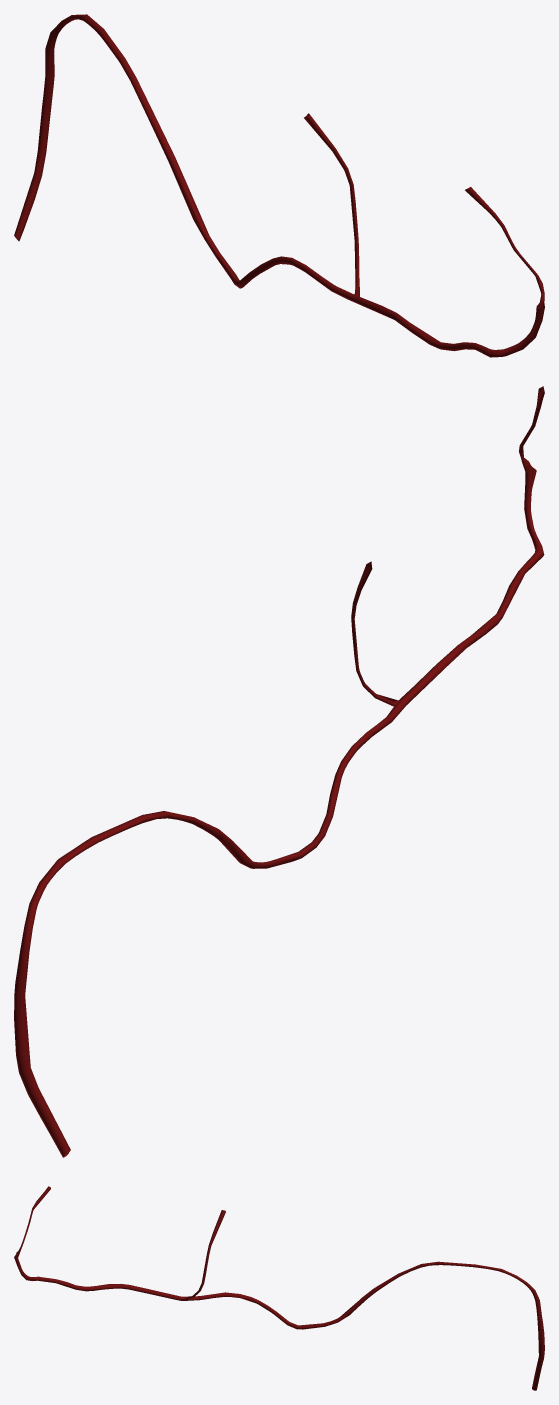
Rendered from L arteria vertebralis.fbx.
3 views of the same model, one above another, from view 1: azimuth 30°, elevation 25°; view 2: azimuth 150°, elevation 25°; view 3: azimuth 270°, elevation 25° (orthographic). The views are drawn at different scales.
Visible parts, largest first — view 1: L arteria vertebralis, L arteria vertebralis low, L arteria vertebralis high; view 2: L arteria vertebralis, L arteria vertebralis low, L arteria vertebralis high; view 3: L arteria vertebralis, L arteria vertebralis low, L arteria vertebralis high.
Part boxes in pixels (x1,y1,x2,y2): L arteria vertebralis: [19, 14, 544, 357]; L arteria vertebralis low: [14, 16, 544, 355]; L arteria vertebralis high: [14, 14, 544, 351]; L arteria vertebralis: [14, 386, 544, 1138]; L arteria vertebralis low: [14, 386, 544, 1157]; L arteria vertebralis high: [18, 387, 544, 1157]; L arteria vertebralis: [14, 1186, 544, 1390]; L arteria vertebralis low: [14, 1188, 542, 1389]; L arteria vertebralis high: [15, 1186, 541, 1389].
Bounding box in the file's own units: 1.98 × 11.41 × 26.6.
